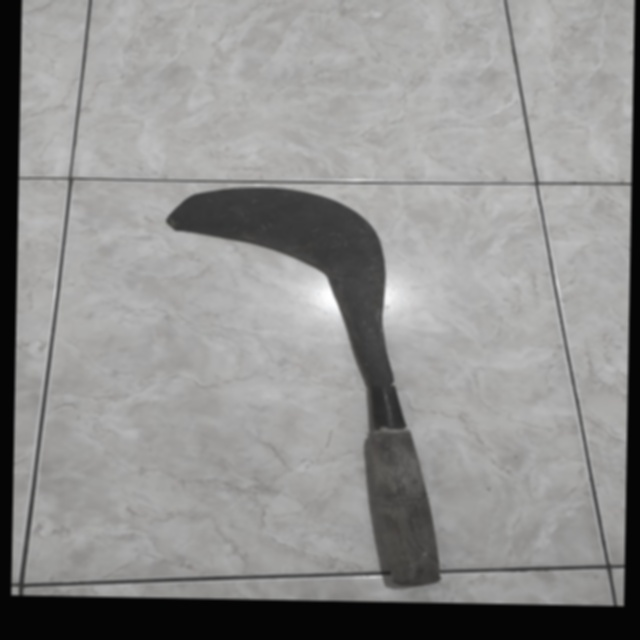Sharp-Object: (141, 176, 457, 591)
